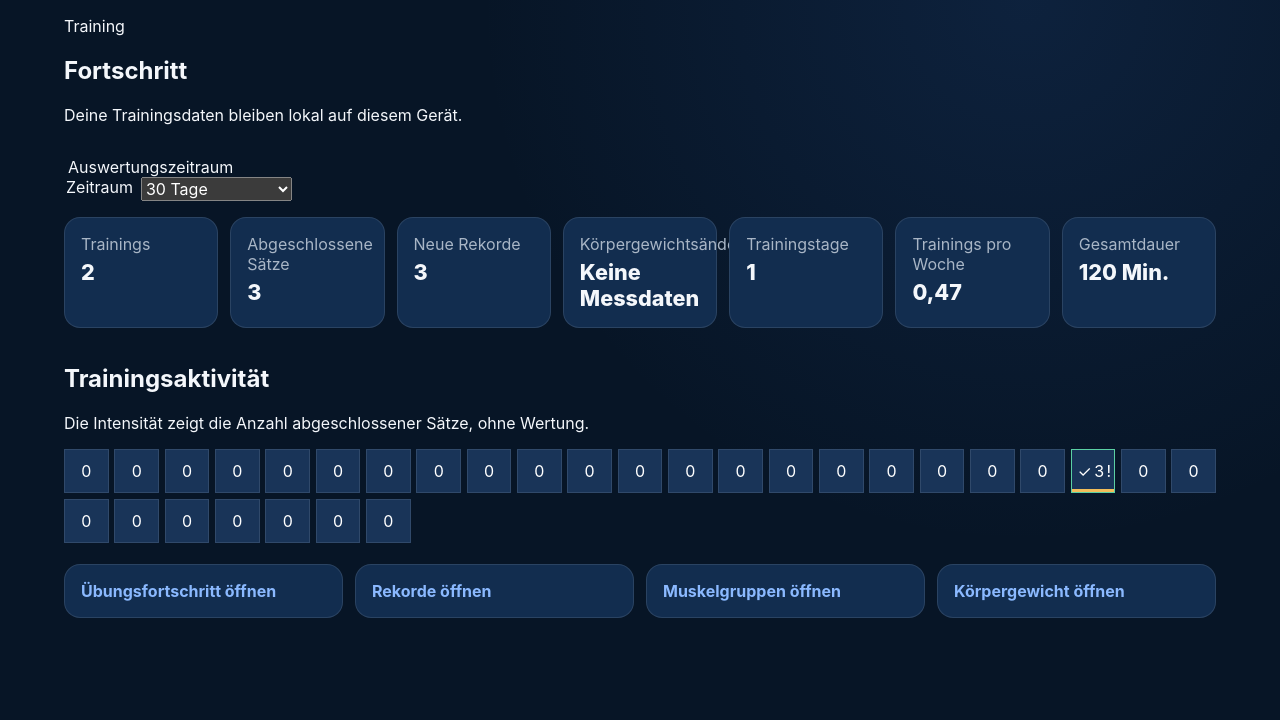
Test: ProgressDashboardPage › opens all workouts for a heatmap day with status and history links
The width and height of the screenshot is (1280, 720).
Click the button "✓ 3 !".
click(1093, 471)  # box [1071,449,1115,493]
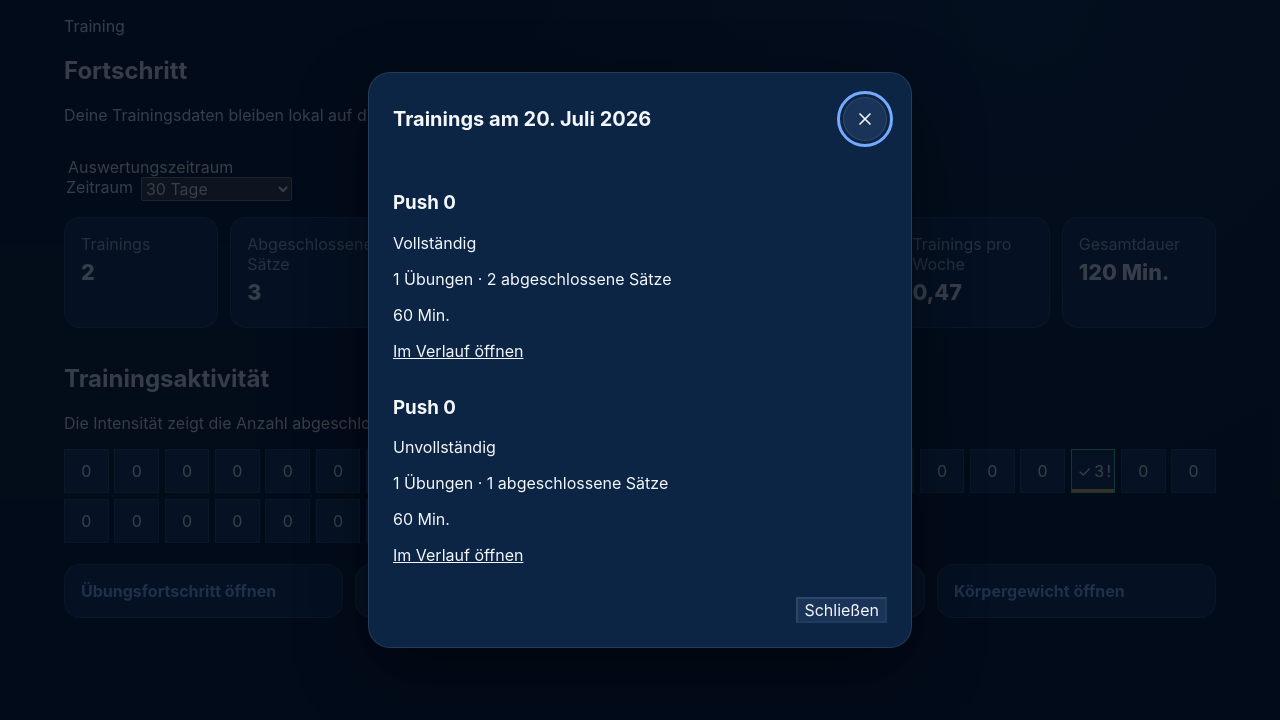
Result: the text "Vollständig" is shown at [393,233,476,253]
Result: the text "Unvollständig" is shown at [393,437,496,457]
Result: the number of links "Im Verlauf öffnen" is 2 at [393,341,523,361]; [393,545,523,565]
